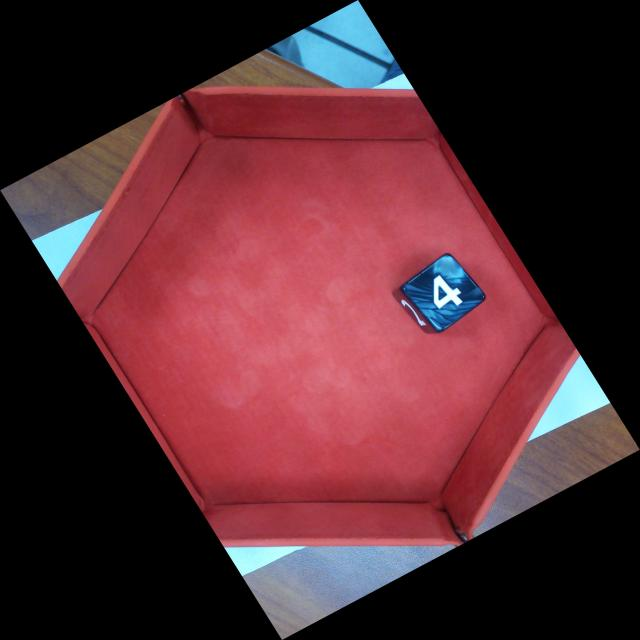dice: (398, 251, 489, 334)
